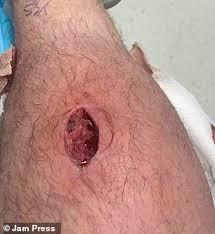Spider: (44, 95, 120, 171)
